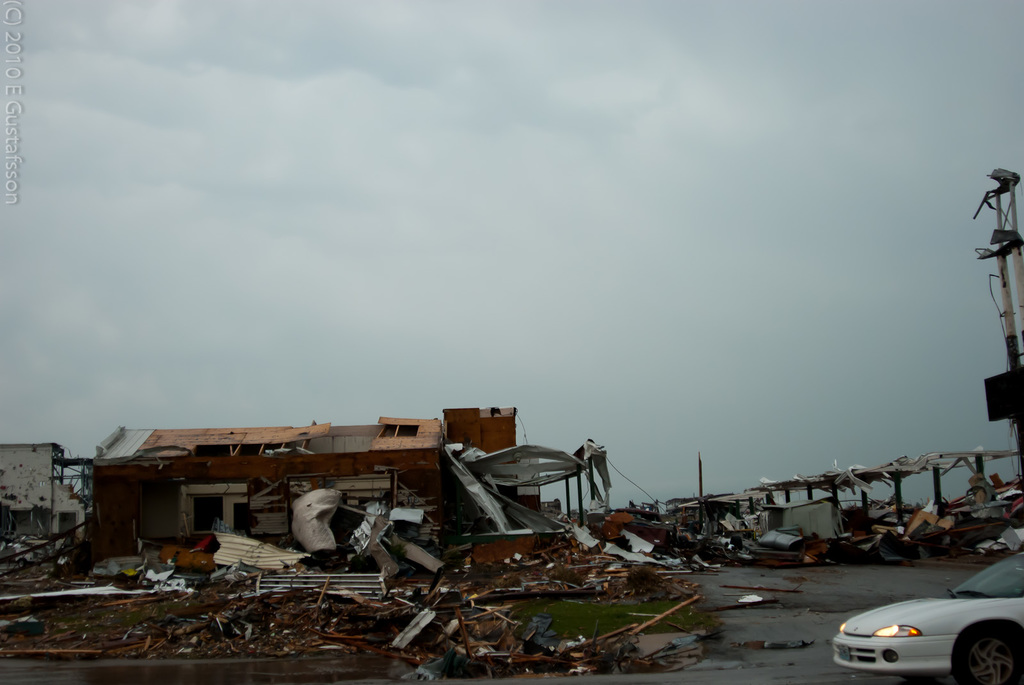Car: (828, 577, 1024, 683)
